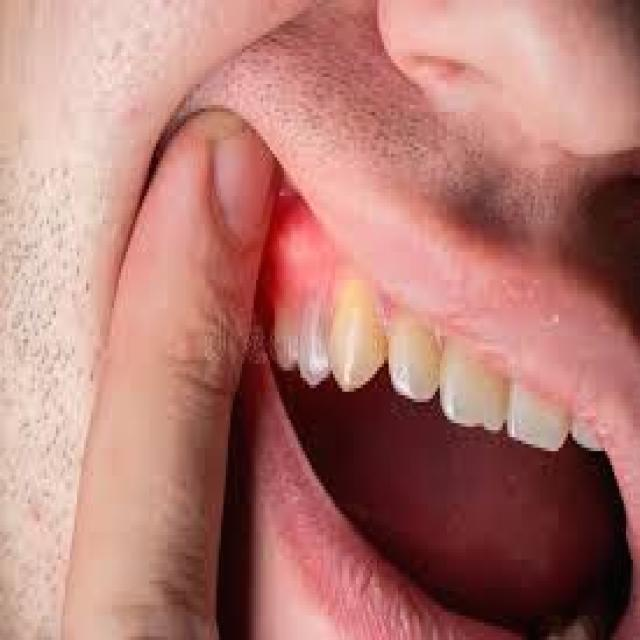abscess: (278, 212, 336, 296)
